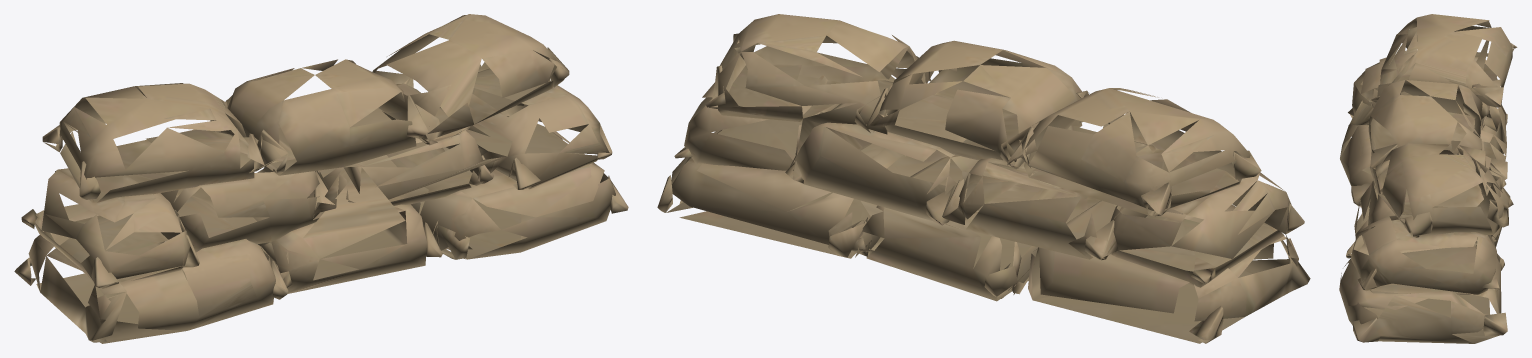
The model's file is grenade-sandbag-low.glb.
3 renders of one model, left to right at view 1: azimuth 30°, elevation 25°; view 2: azimuth 150°, elevation 25°; view 3: azimuth 270°, elevation 25°, orthographic. The views are drawn at different scales.
Size of the model in its own units: 0.9482 by 0.3071 by 0.334.
Materials: 1 (1 with a texture image).
